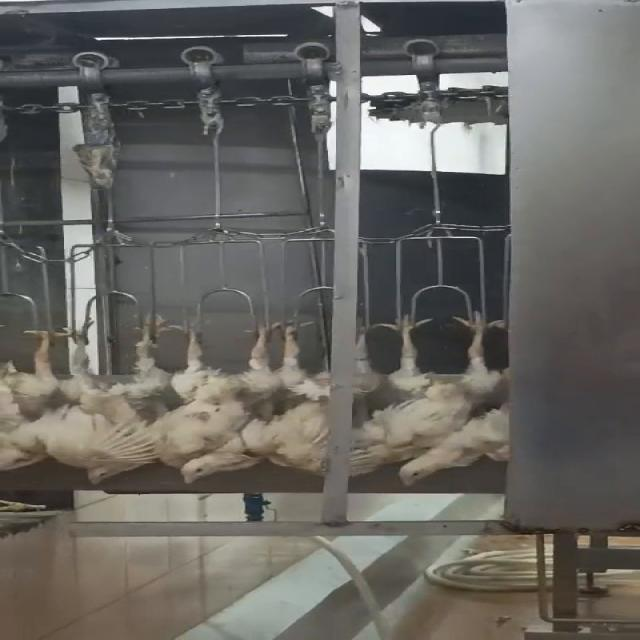chicken: (358, 310, 502, 477), (162, 313, 293, 487), (53, 310, 176, 488), (236, 313, 338, 476), (0, 314, 80, 476), (395, 396, 528, 491)
